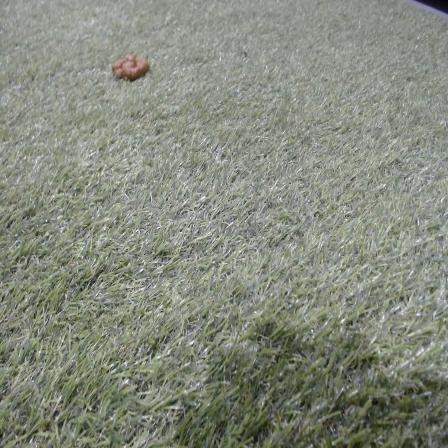dog-poop: (110, 50, 152, 82)
